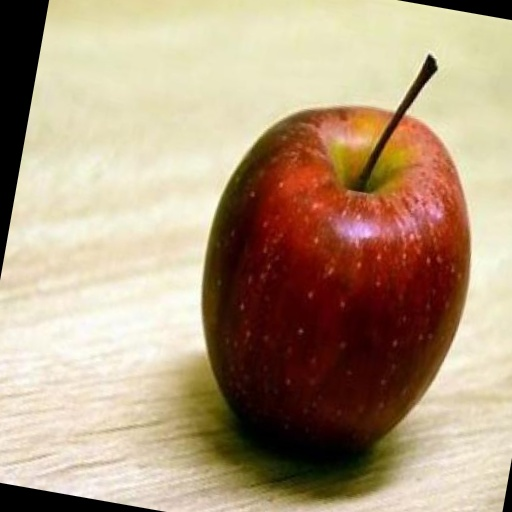fruit: (202, 104, 470, 450)
